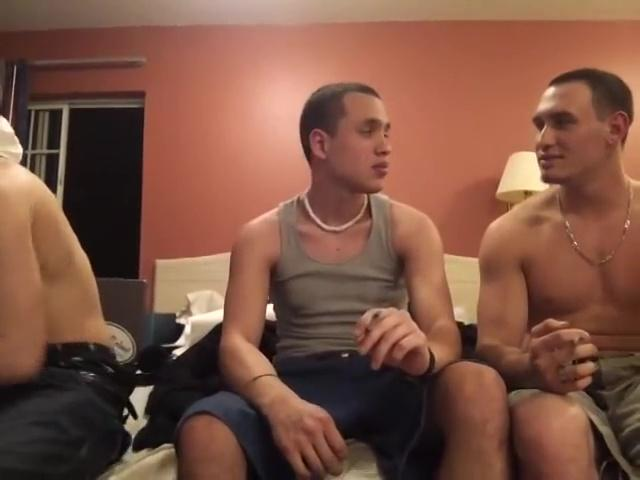cigarette: (362, 308, 384, 339), (572, 334, 588, 347)
